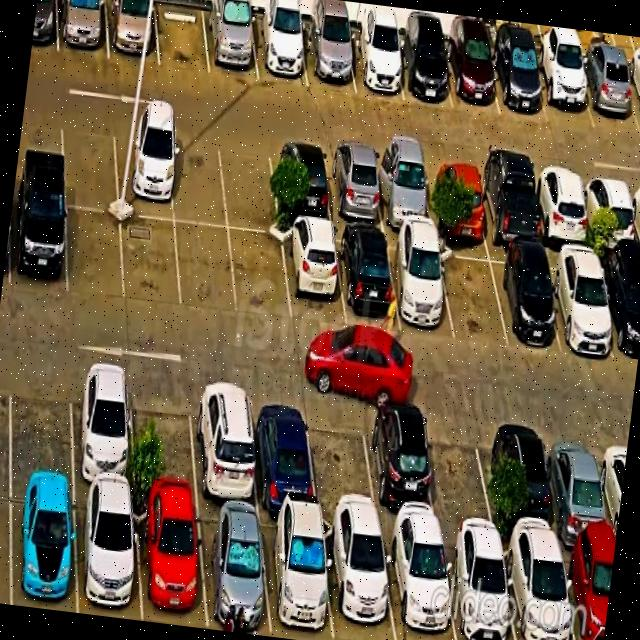empty: (425, 409, 496, 538), (306, 397, 378, 523), (130, 372, 198, 501), (10, 358, 73, 483), (437, 243, 507, 346), (218, 135, 279, 234), (175, 222, 237, 314), (169, 129, 227, 226), (121, 215, 180, 310), (229, 230, 290, 321), (61, 114, 118, 211), (67, 207, 124, 300), (155, 0, 209, 73)
occupied: (196, 503, 271, 636), (363, 404, 440, 530), (259, 512, 333, 640), (134, 496, 206, 627), (75, 487, 142, 620), (322, 518, 395, 640), (545, 422, 614, 548), (10, 481, 76, 612), (191, 380, 258, 509), (249, 388, 317, 513), (381, 528, 456, 640), (495, 415, 559, 543), (71, 363, 134, 492), (441, 532, 515, 640), (544, 249, 615, 356), (501, 538, 574, 640), (386, 235, 454, 339), (488, 248, 559, 347), (335, 228, 400, 329), (282, 222, 345, 326), (113, 121, 174, 220), (475, 164, 541, 248), (10, 195, 66, 294), (559, 543, 615, 640), (574, 55, 640, 134), (269, 141, 332, 223), (424, 158, 487, 239), (371, 151, 434, 231), (323, 146, 384, 227), (596, 254, 640, 365), (531, 51, 594, 128), (580, 173, 639, 253), (532, 169, 591, 248), (489, 42, 547, 121), (443, 38, 499, 114), (393, 36, 452, 107), (250, 14, 308, 86), (203, 7, 258, 81), (346, 30, 403, 100), (301, 24, 355, 91), (105, 0, 159, 65), (57, 0, 108, 58), (622, 63, 640, 130)
